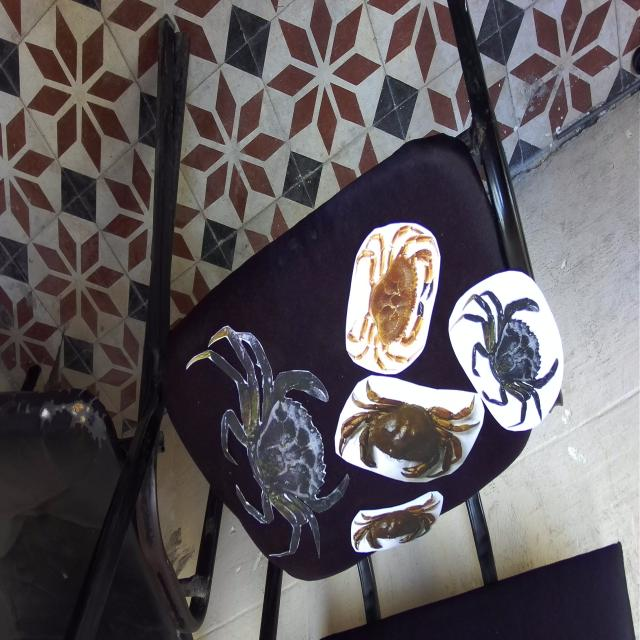European_Green_Crab: (185, 256, 369, 607), (449, 240, 573, 462)
